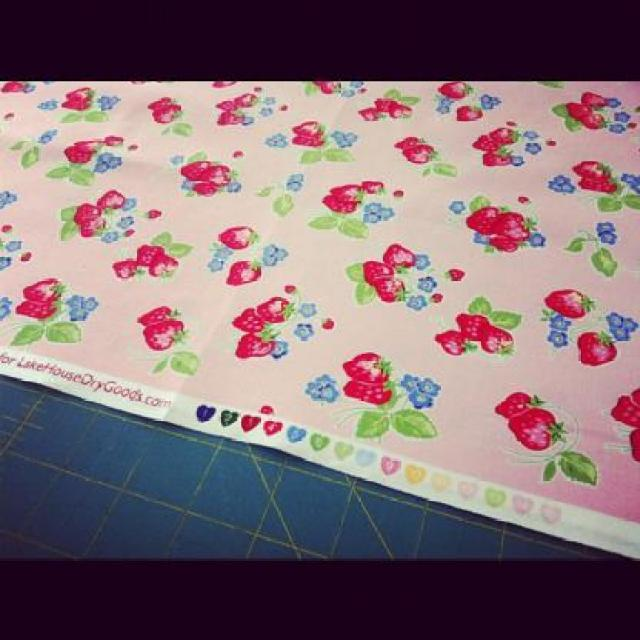Strawberry: (508, 404, 567, 456), (138, 312, 187, 356), (343, 372, 399, 406), (494, 387, 550, 421), (233, 320, 278, 362), (578, 326, 617, 374), (462, 205, 512, 238), (16, 278, 70, 307), (486, 208, 534, 240), (430, 325, 476, 358), (226, 303, 268, 339), (478, 322, 520, 358), (543, 290, 594, 319), (134, 300, 180, 328), (256, 294, 296, 326), (379, 242, 416, 275), (220, 258, 262, 287), (212, 225, 260, 250), (372, 274, 412, 303), (448, 313, 488, 342), (348, 354, 390, 380), (399, 142, 441, 168), (320, 193, 366, 216), (610, 392, 639, 426), (574, 173, 620, 194), (146, 249, 180, 277), (360, 260, 394, 288), (14, 298, 56, 320), (434, 79, 476, 101), (108, 256, 146, 278), (94, 188, 126, 212), (570, 160, 612, 178), (487, 125, 521, 147), (289, 119, 328, 138), (198, 168, 239, 186), (134, 244, 164, 268), (454, 100, 486, 122), (180, 158, 209, 182), (152, 101, 182, 124), (60, 146, 94, 166), (478, 148, 512, 168), (73, 200, 99, 226), (392, 134, 428, 152), (492, 234, 528, 252), (576, 92, 610, 111), (214, 110, 246, 130), (290, 131, 330, 147), (77, 216, 106, 237), (330, 182, 368, 198), (62, 85, 93, 104), (147, 93, 176, 112), (626, 424, 640, 462), (354, 103, 380, 123), (70, 138, 102, 154), (472, 134, 499, 152), (192, 179, 220, 196), (387, 102, 413, 120), (566, 102, 592, 120), (372, 94, 394, 115), (230, 92, 262, 105), (61, 97, 90, 111), (2, 79, 27, 95), (578, 114, 606, 128), (212, 99, 242, 112), (362, 182, 387, 196), (102, 134, 126, 146), (633, 382, 639, 410)
